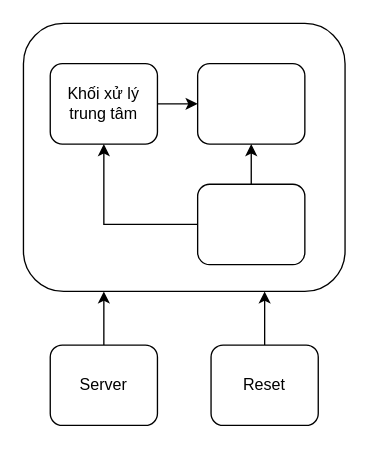
This 369x449 diagram has some shape labels left out. The box of each missing label's shape, as (x1, y1, x2, y2) in pixels:
Khối nguồn: (196, 183, 305, 265)
Khối ngõ ra công suất: (196, 62, 305, 144)
